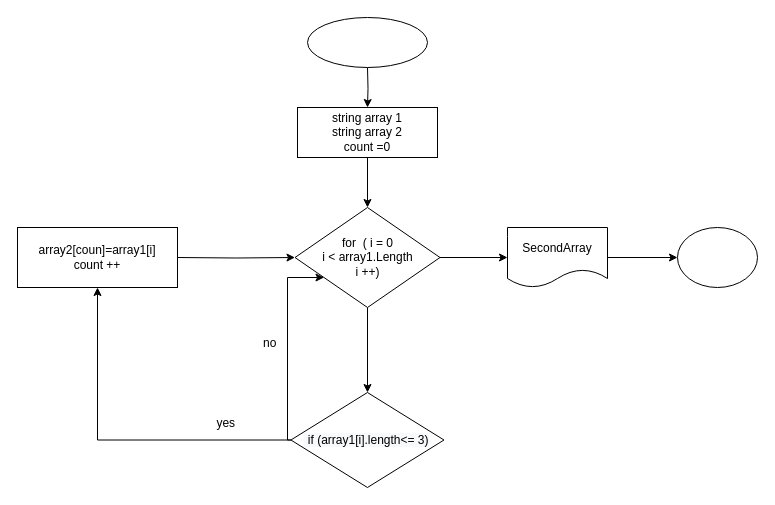
Some shapes in this 775 by 505 pixel diagram are drawn without their labels. The shapes that lost their labels are listed below. From the top down, each one's centre as x and y in pixels, then its label:
At [367,42]: "start".
At [717,257]: "end".
